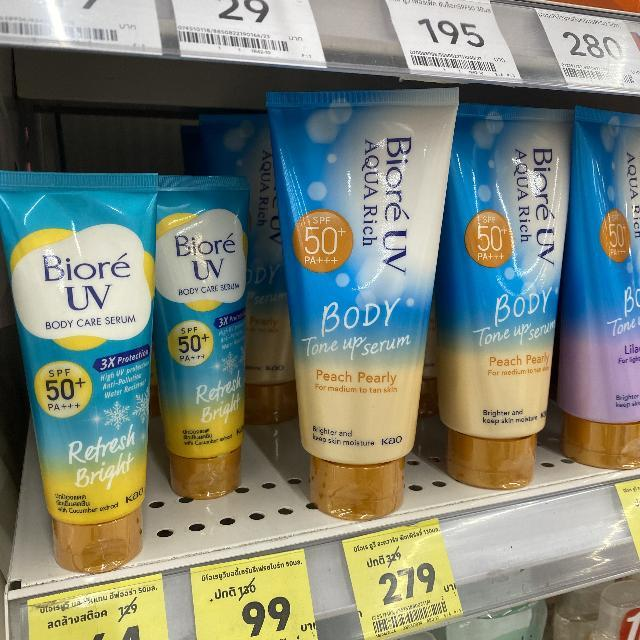Squeeze Tube: (0, 32, 640, 566)
